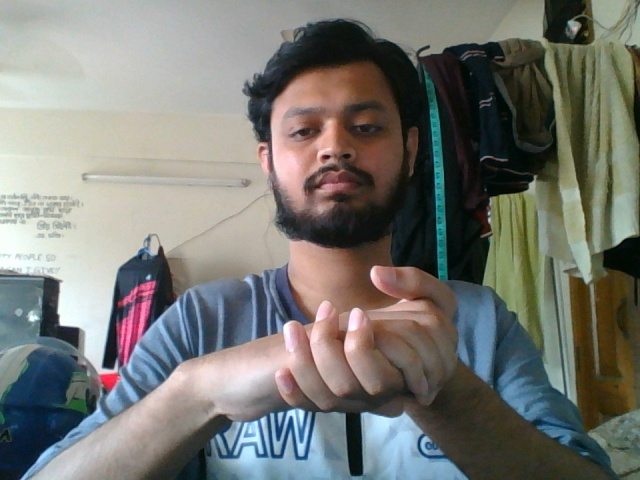bondhu: (148, 260, 527, 431)
